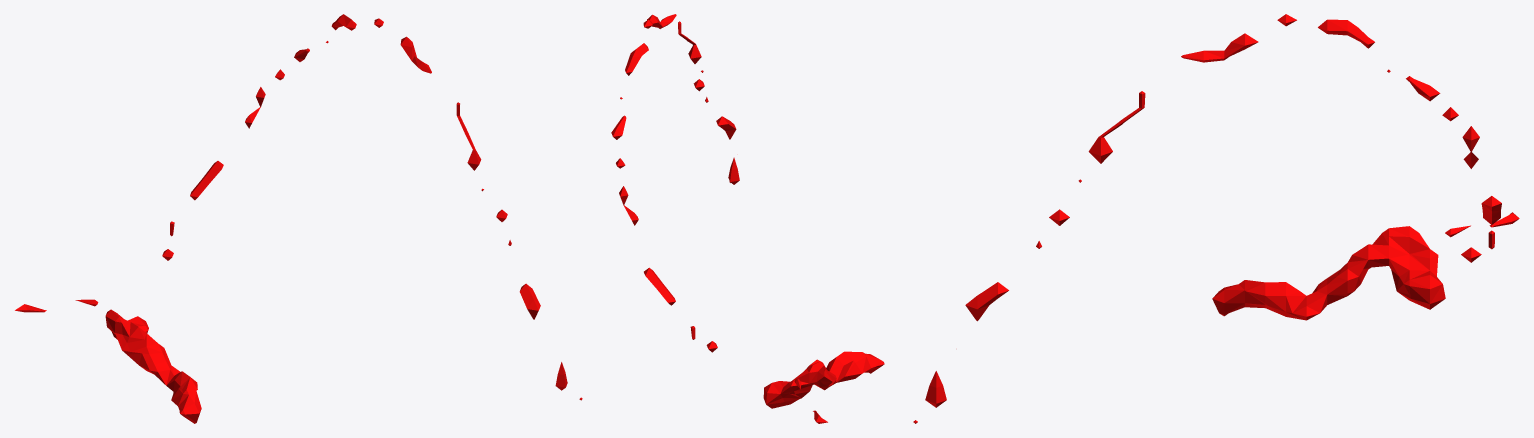
File: tsr_coarse.dae
3 renders of one model, left to right at view 1: azimuth 30°, elevation 25°; view 2: azimuth 150°, elevation 25°; view 3: azimuth 270°, elevation 25°, orthographic. The views are drawn at different scales.
Parts seen in each view (by area): view 1: tsr; view 2: tsr; view 3: tsr.
Boxes of the visible parts, x1,y1,x2,y2 form: tsr: [15, 14, 582, 423]; tsr: [611, 14, 884, 423]; tsr: [913, 14, 1519, 423].
Bounding box in the file's own units: 327 × 313 × 398.
